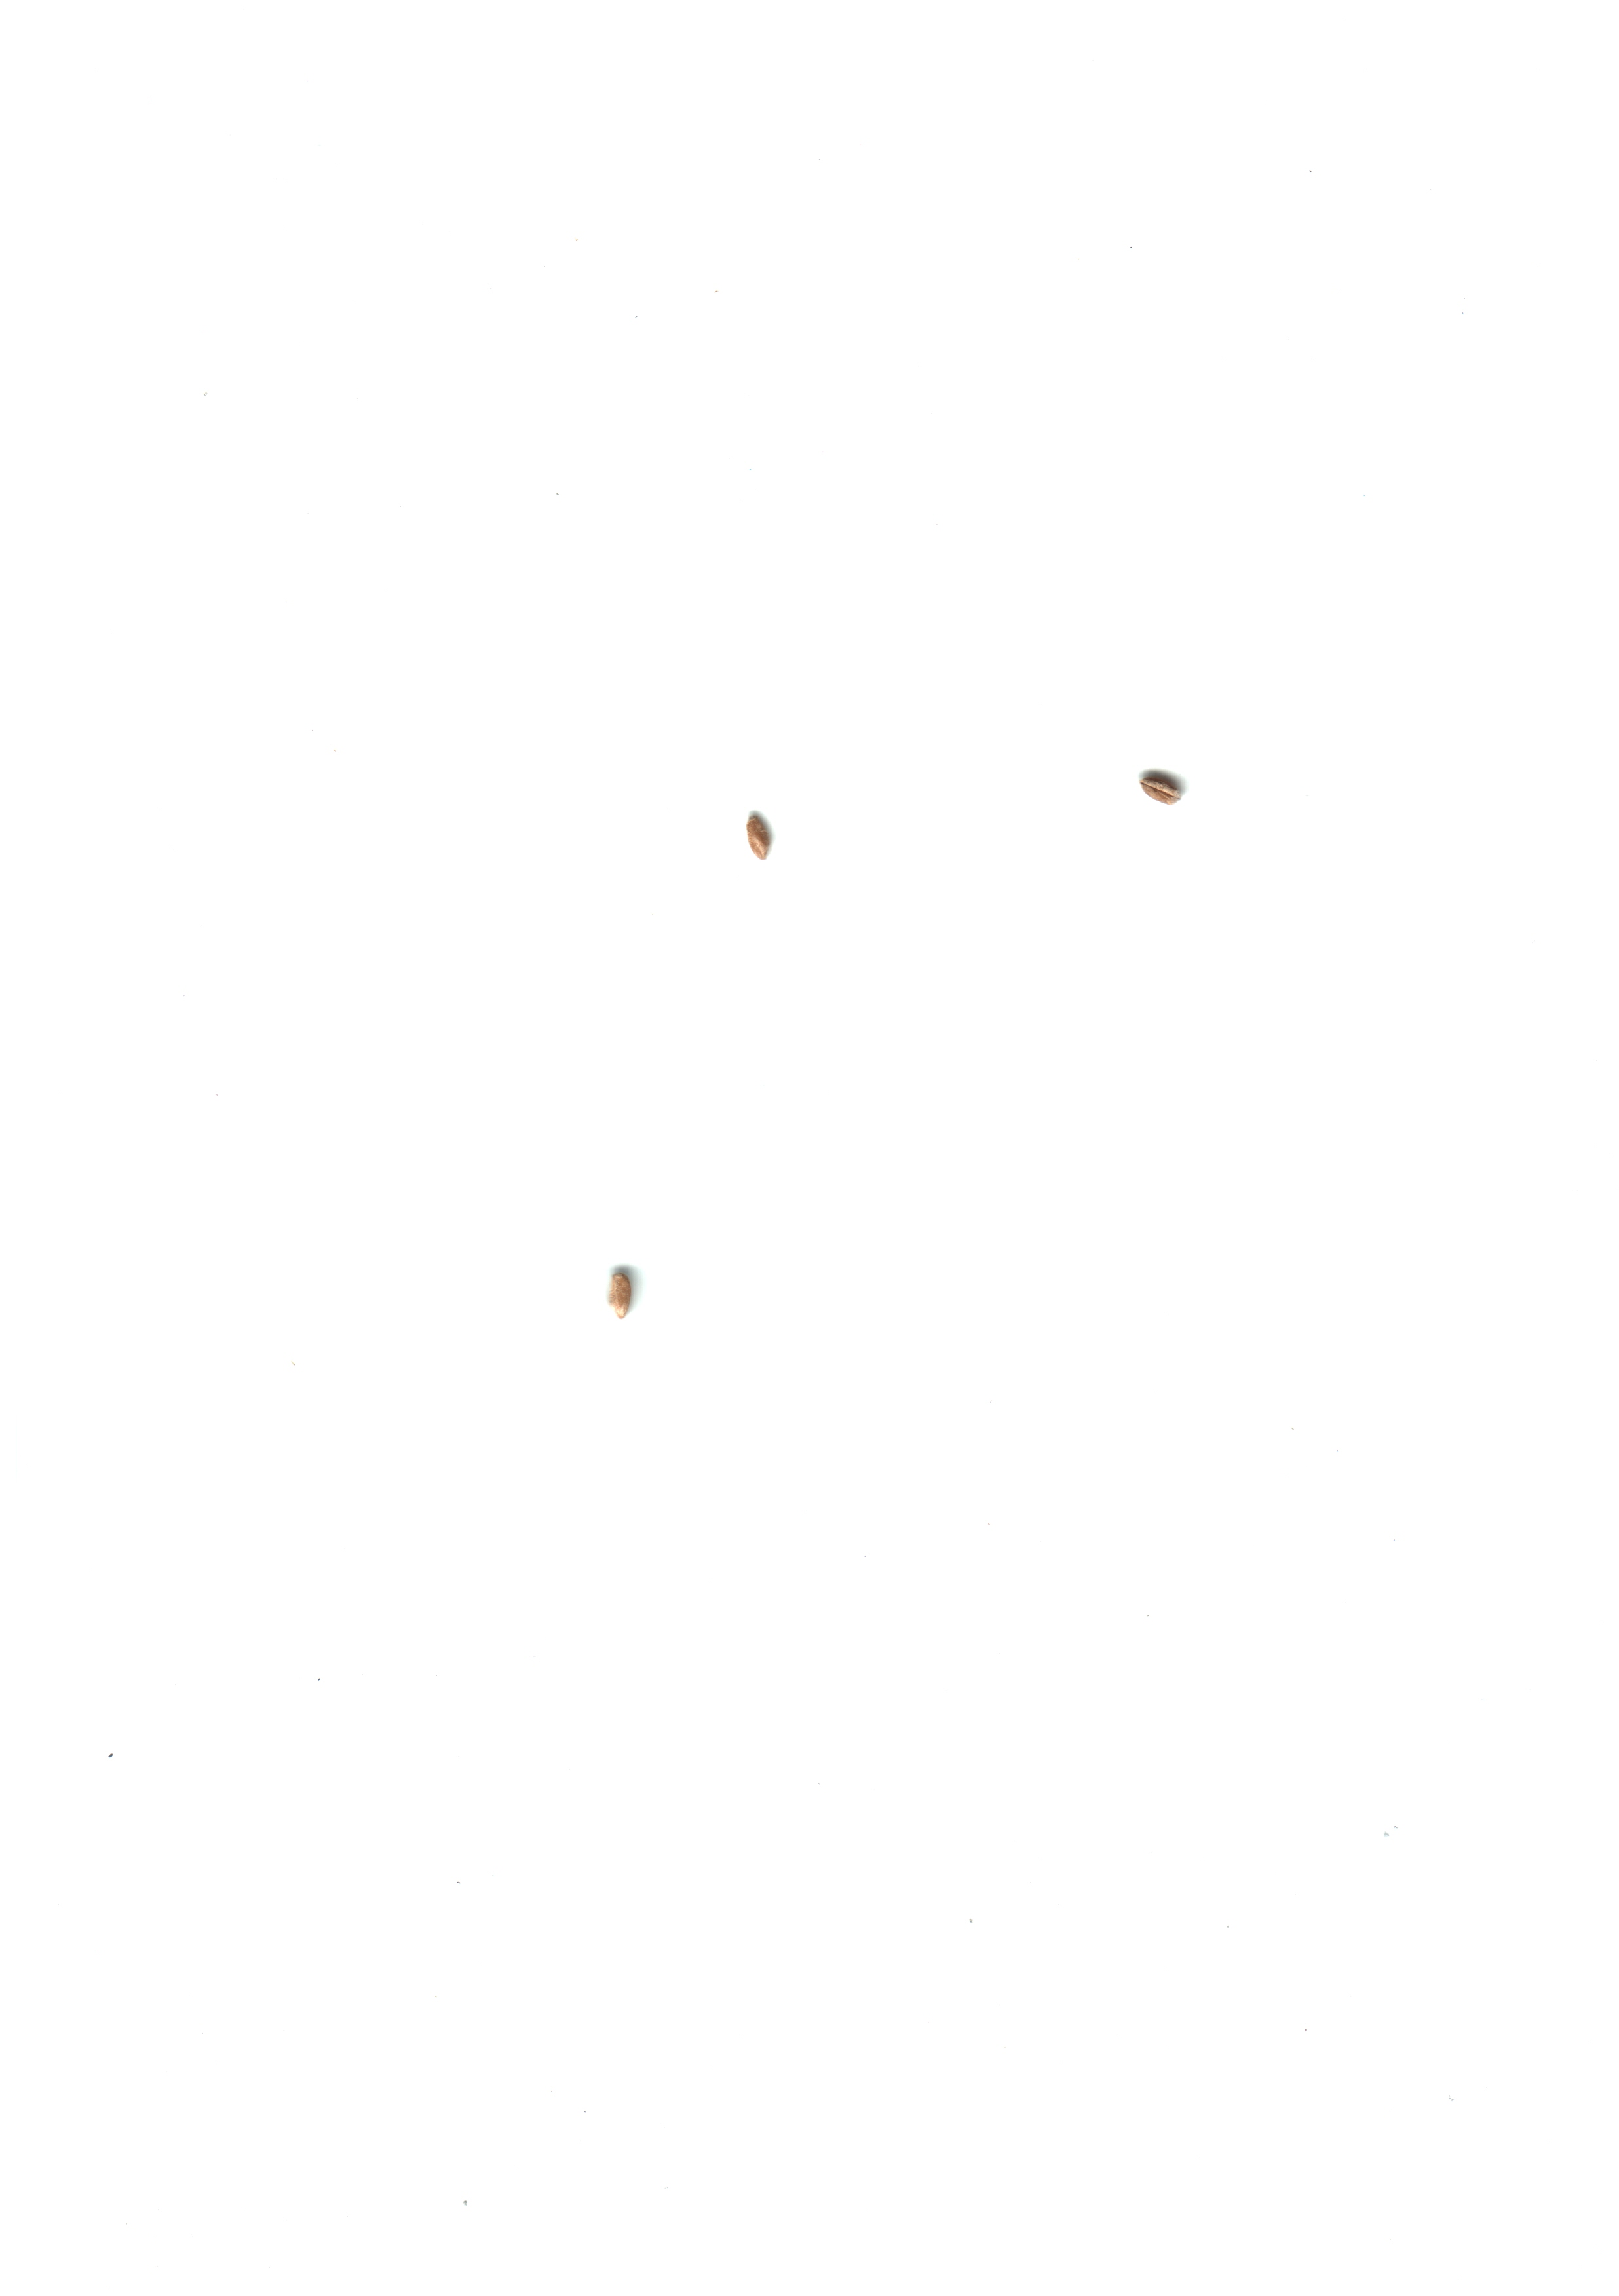grains_3mm: (582, 1246, 676, 1332), (722, 792, 817, 878), (1113, 748, 1207, 834)
